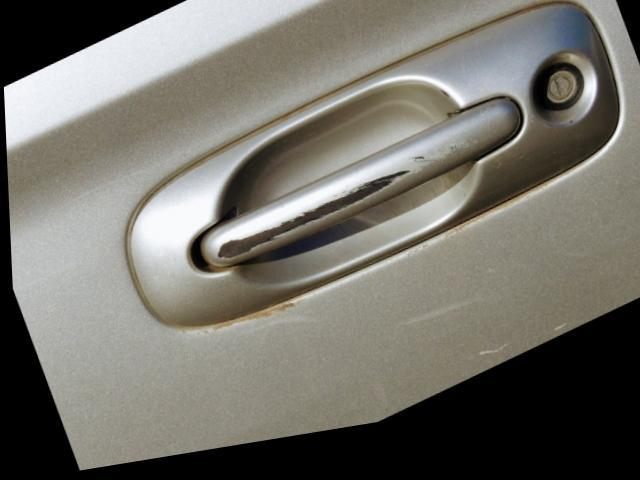scratch: (213, 154, 466, 271)
